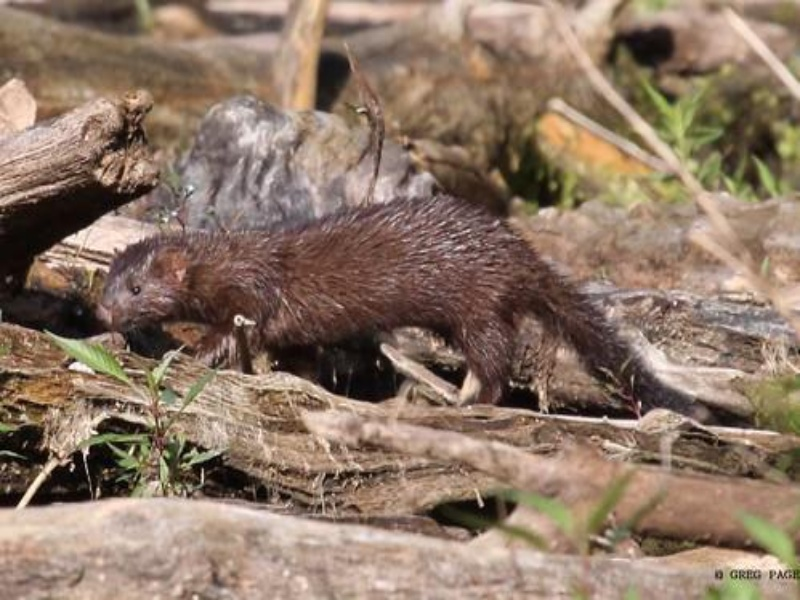minkish: (98, 191, 746, 437)
